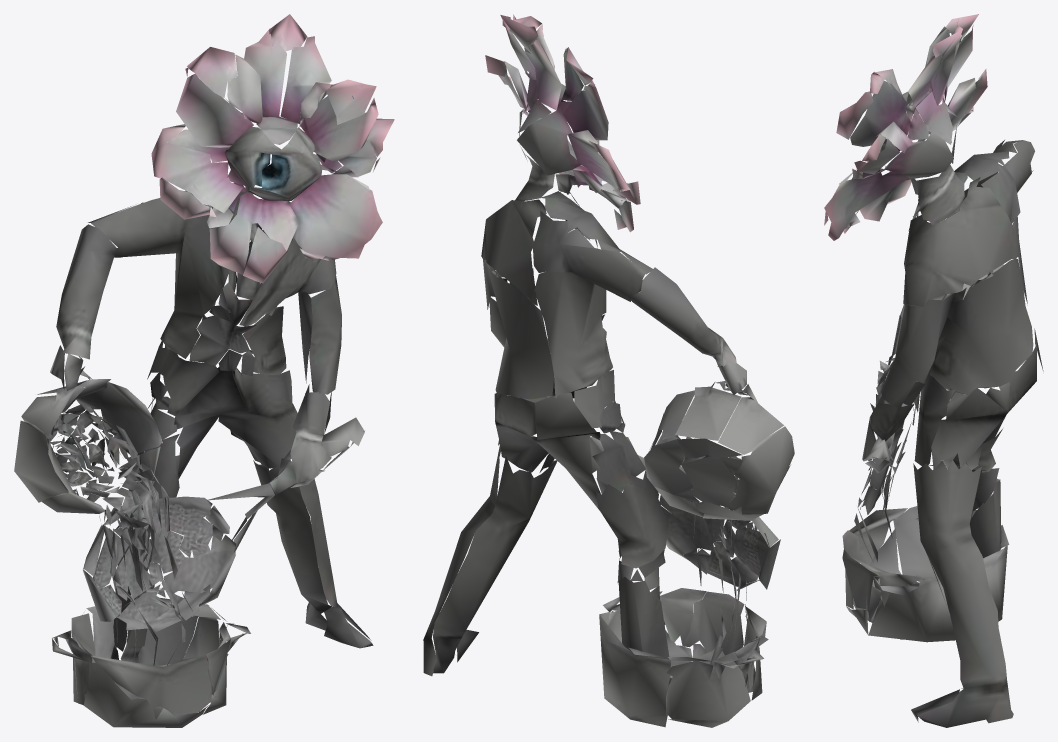
File: crowd_clerk.glb
3 renders of one model, left to right at view 1: azimuth 30°, elevation 25°; view 2: azimuth 150°, elevation 25°; view 3: azimuth 270°, elevation 25°, orthographic. The views are drawn at different scales.
Parts seen in each view (by area): view 1: tripo_node_693e19a1-a717-4693-80da-2d3c8cc25a0a; view 2: tripo_node_693e19a1-a717-4693-80da-2d3c8cc25a0a; view 3: tripo_node_693e19a1-a717-4693-80da-2d3c8cc25a0a.
Boxes of the visible parts, x1,y1,x2,y2 form: tripo_node_693e19a1-a717-4693-80da-2d3c8cc25a0a: (14, 14, 394, 727); tripo_node_693e19a1-a717-4693-80da-2d3c8cc25a0a: (423, 14, 794, 727); tripo_node_693e19a1-a717-4693-80da-2d3c8cc25a0a: (824, 14, 1043, 727).
Size of the model in its own units: 1.05 by 1.88 by 0.5598.
Materials: 1 (1 with a texture image).
